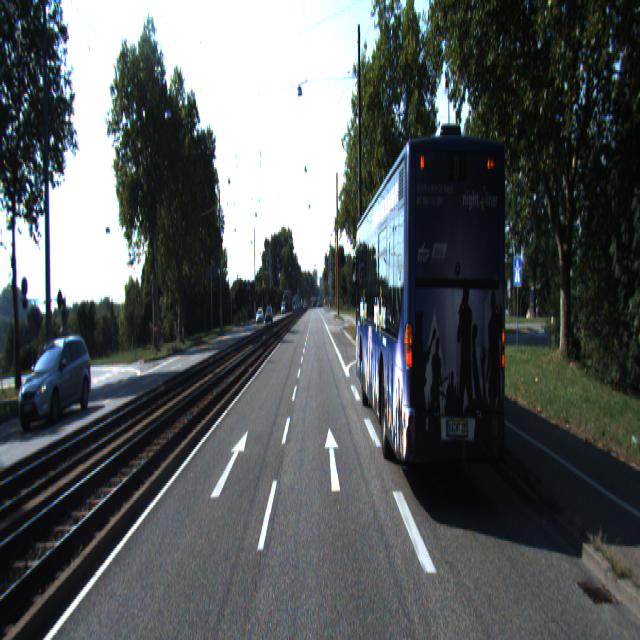Car: (356, 126, 514, 517), (19, 335, 96, 430)
